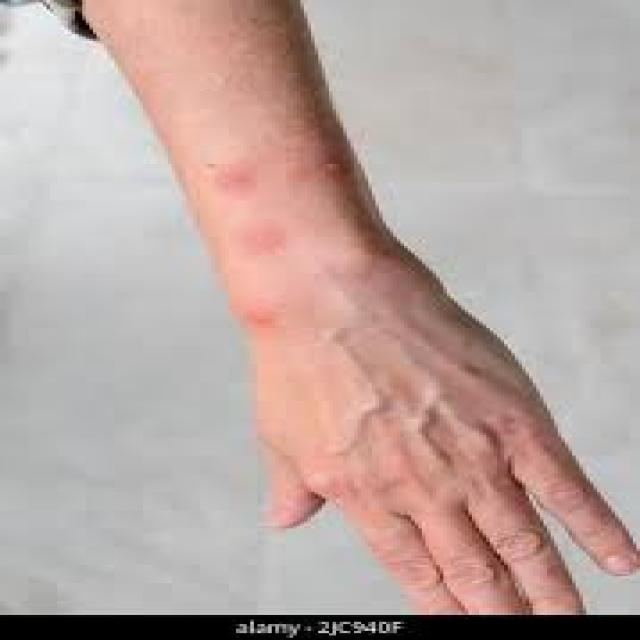kan emici bocekler: (231, 223, 290, 256), (213, 167, 261, 199), (312, 159, 352, 189), (247, 309, 286, 332)
